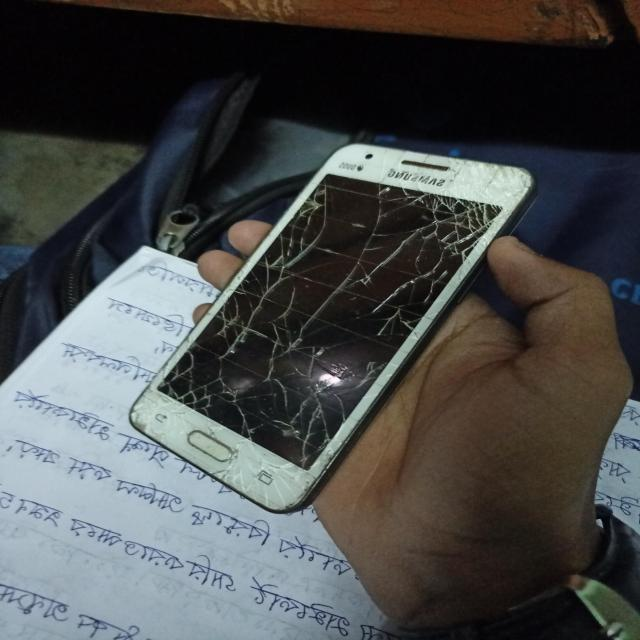mobile: (96, 79, 567, 528)
